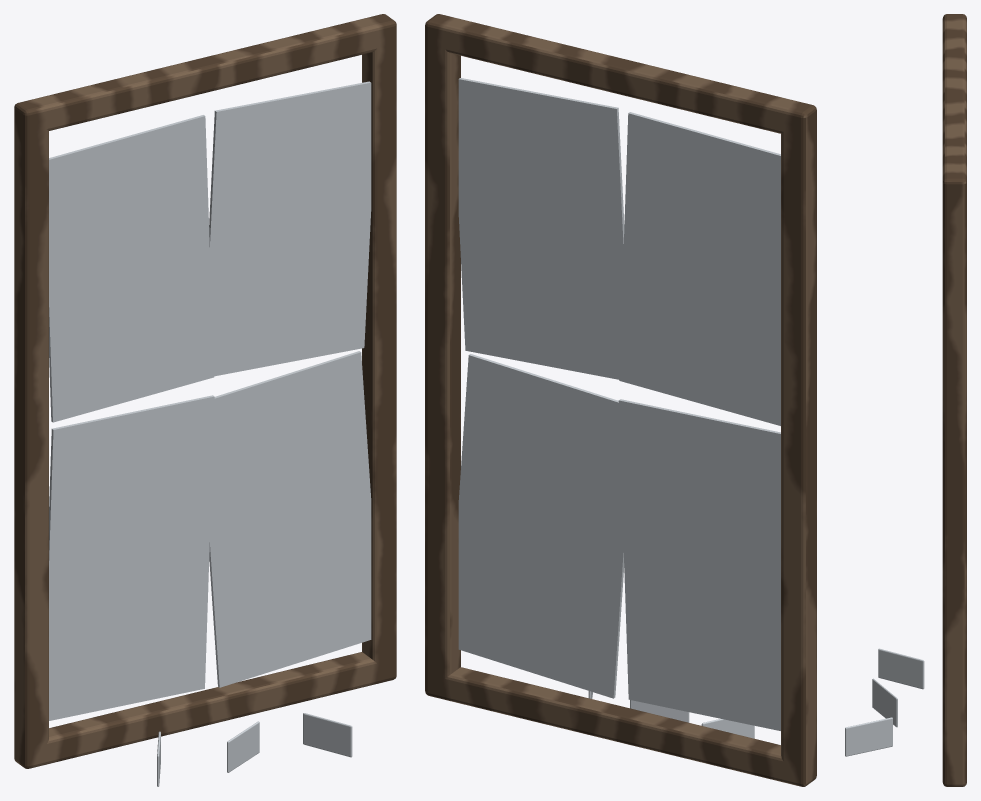
The model's file is PRP_Mirror_Broken.fbx.
The picture shows the model from 3 angles, left to right: view 1: azimuth 30°, elevation 25°; view 2: azimuth 150°, elevation 25°; view 3: azimuth 270°, elevation 25°; orthographic projection. The views are drawn at different scales.
Visible parts, largest first — view 1: Mirror_Frame, Mirror_Crack_03, Mirror_Crack_04, Mirror_Crack_02, Mirror_Crack_01, Mirror_Shard_03, Mirror_Shard_02; view 2: Mirror_Frame, Mirror_Crack_04, Mirror_Crack_03, Mirror_Crack_02, Mirror_Crack_01; view 3: Mirror_Frame, Mirror_Shard_03, Mirror_Shard_01, Mirror_Shard_02.
Part boxes in pixels (x1,y1,x2,y2): Mirror_Frame: (14, 14, 396, 768); Mirror_Crack_03: (49, 395, 214, 720); Mirror_Crack_04: (200, 351, 371, 687); Mirror_Crack_02: (203, 81, 371, 378); Mirror_Crack_01: (49, 115, 214, 422); Mirror_Shard_03: (303, 713, 352, 757); Mirror_Shard_02: (227, 721, 259, 772); Mirror_Frame: (425, 14, 816, 786); Mirror_Crack_04: (458, 354, 633, 698); Mirror_Crack_03: (618, 399, 780, 730); Mirror_Crack_02: (458, 78, 630, 381); Mirror_Crack_01: (619, 112, 780, 425); Mirror_Frame: (942, 14, 966, 786); Mirror_Shard_03: (845, 717, 892, 756); Mirror_Shard_01: (878, 648, 924, 689); Mirror_Shard_02: (872, 678, 897, 727).
Size of the model in its own units: 74 by 128 by 22.72.
